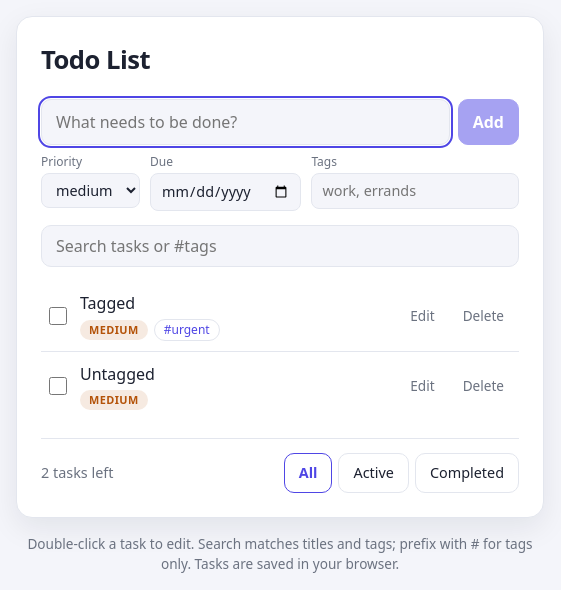
Test: search › clicking a tag chip searches for that tag, and Clear resets
The image size is (561, 590).
Click the button with aria-label "Filter by tag urgent" at (187, 330), box [154,319,220,341]
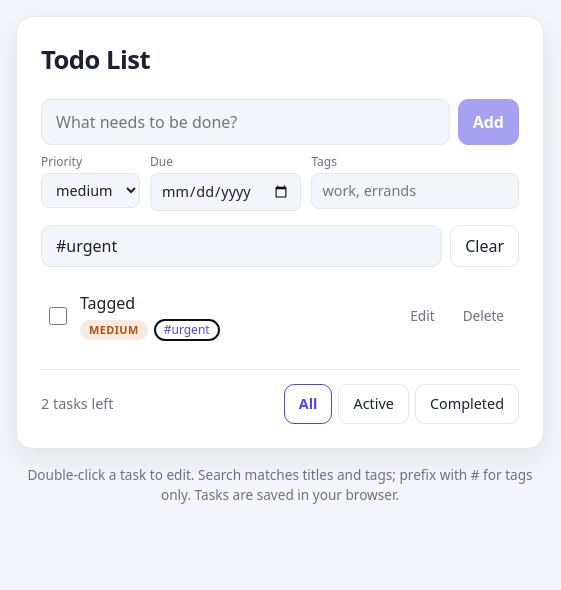
Expected: the text "Tagged" is shown, [80,292,135,314]
Expected: the search field named "Search tasks" holds "#urgent", [41,225,442,267]
Expected: the text "Untagged" is gone
Click the button "Clear" at (485, 246), box [450,225,519,267]
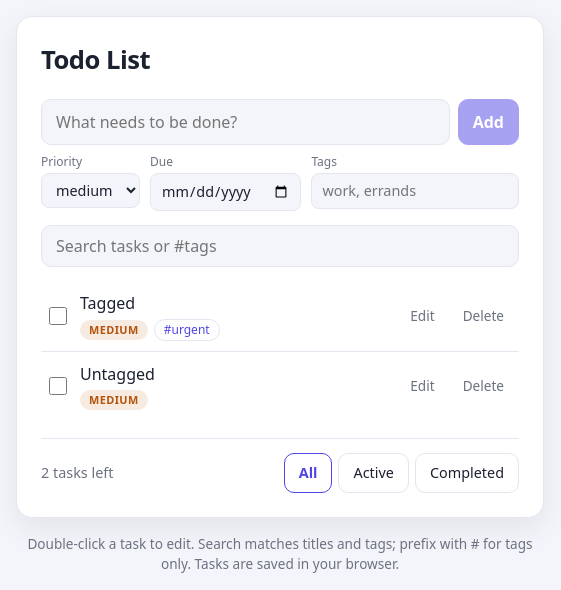
Expected: the text "Tagged" is shown, [80,292,135,314]
Expected: the text "Untagged" is shown, [80,363,155,385]
